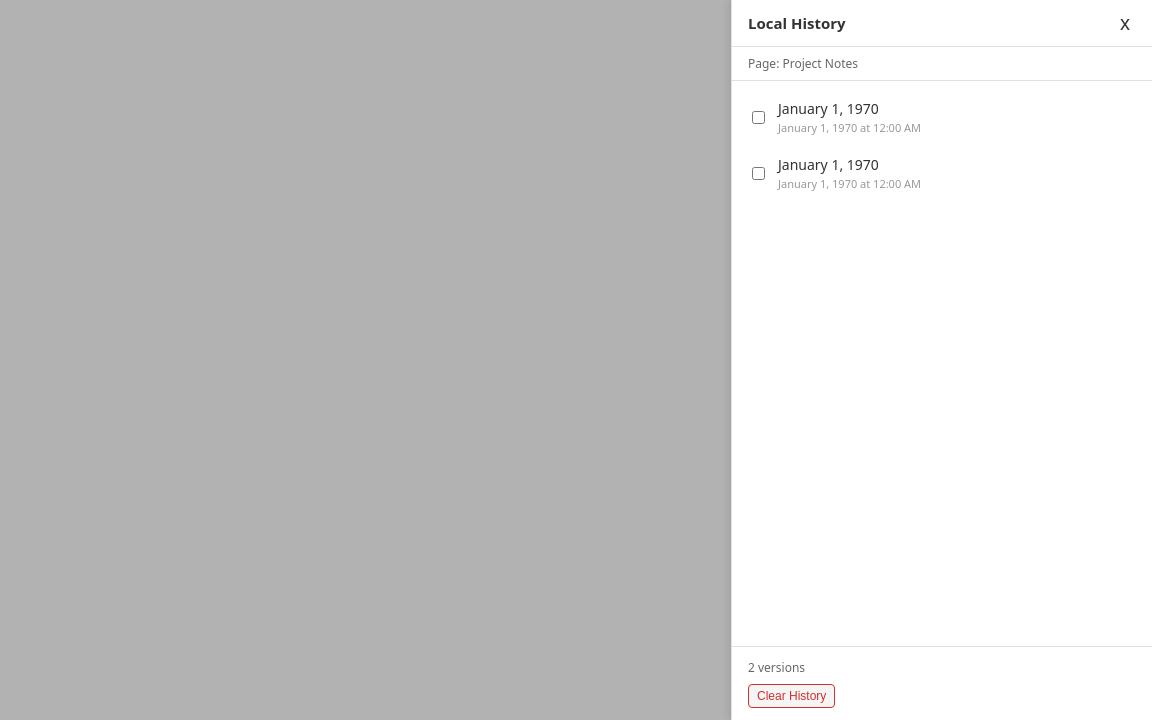
Test: App shell › reloads the current page after closing and reopening local history
Click the element with class "local-history-overlay" at [576, 360], box [0,0,1151,719]
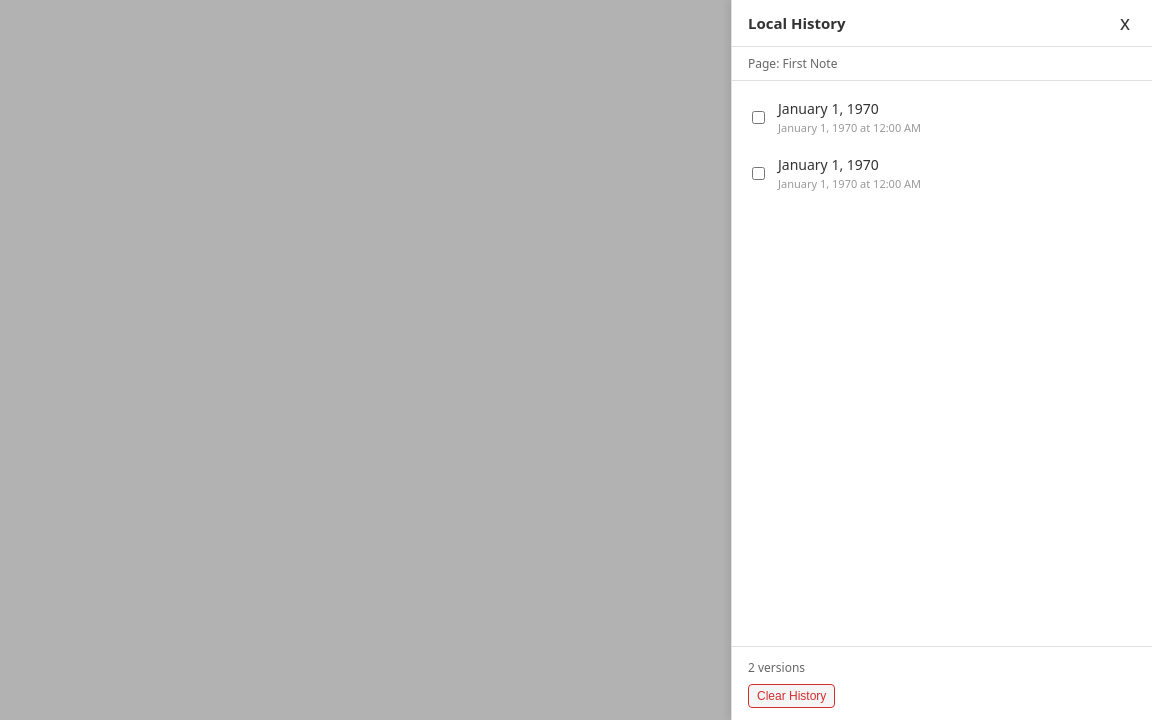
expect the text "First Note" is shown: met, box [748,55,837,72]
expect the text "Project Notes" is gone: met
